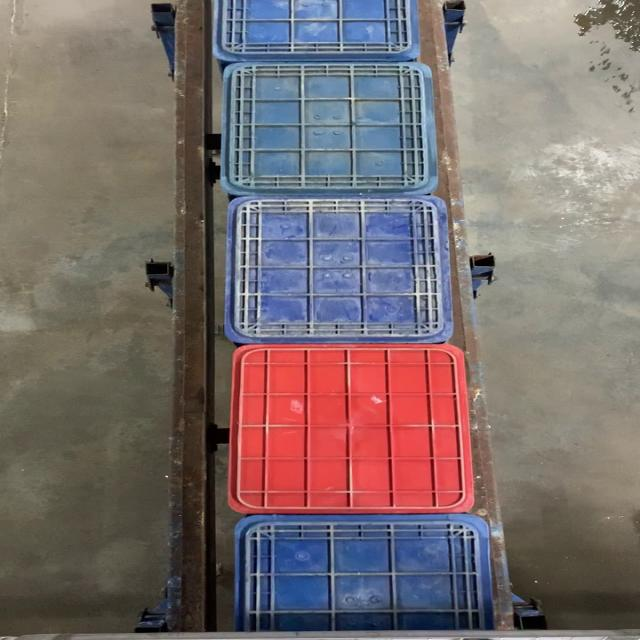Box: (226, 344, 477, 512), (222, 198, 462, 342), (213, 61, 442, 197)
